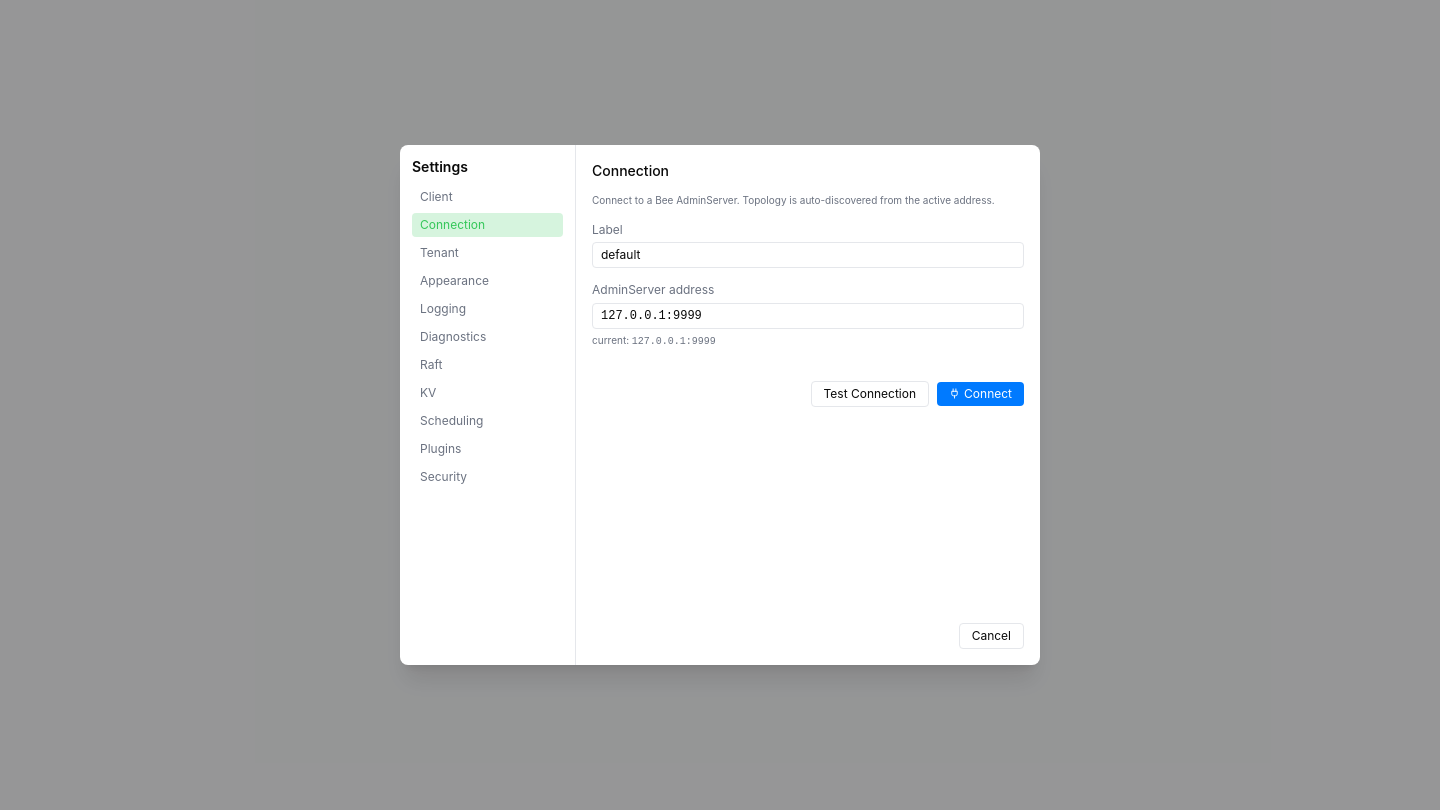
<SettingsModal> › rejects an out-of-range tenant and shows an error
Click the button "Tenant": click(488, 253) [412,241,563,265]
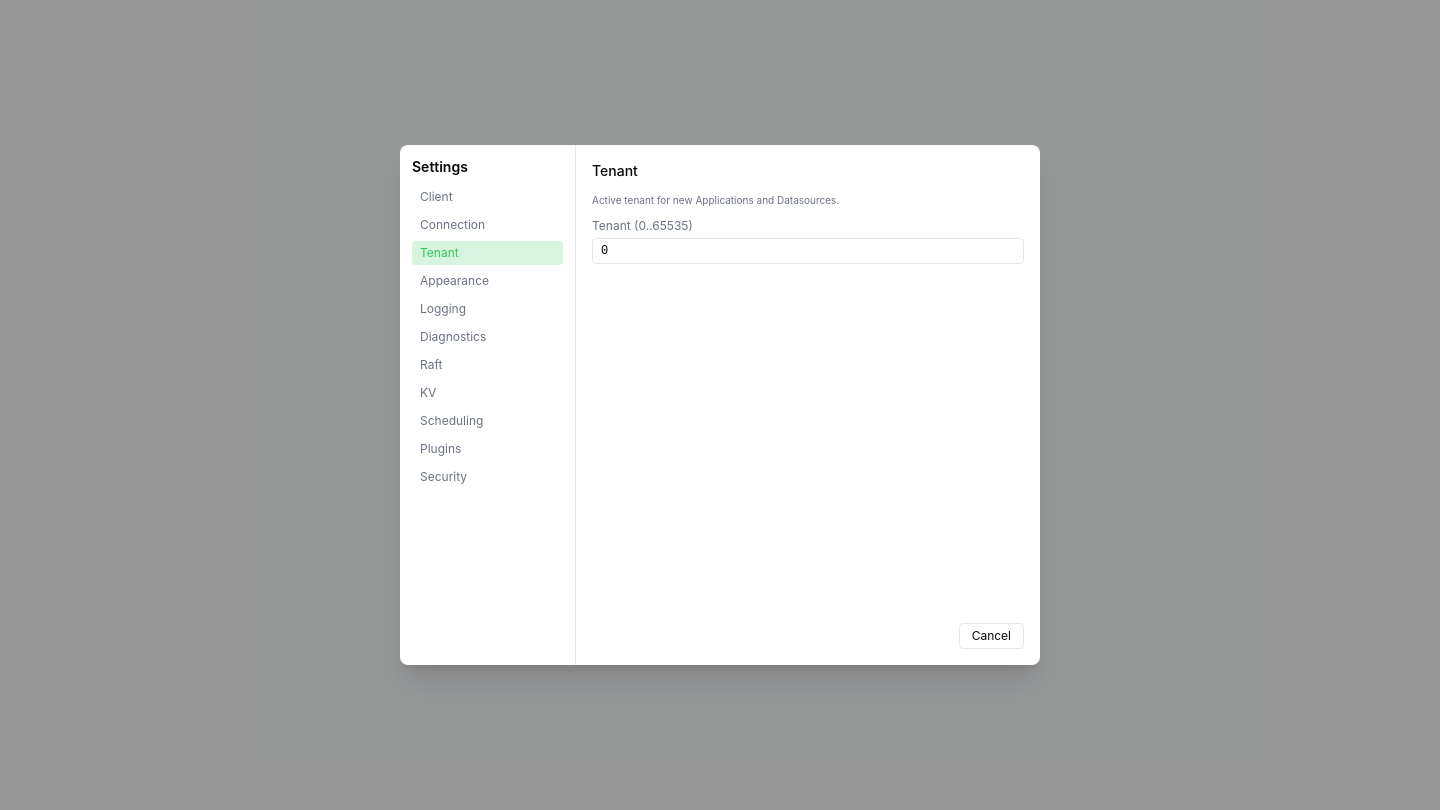
Replace the text in the field named "Active tenant" with "70000": (808, 251) [592,238,1024,264]
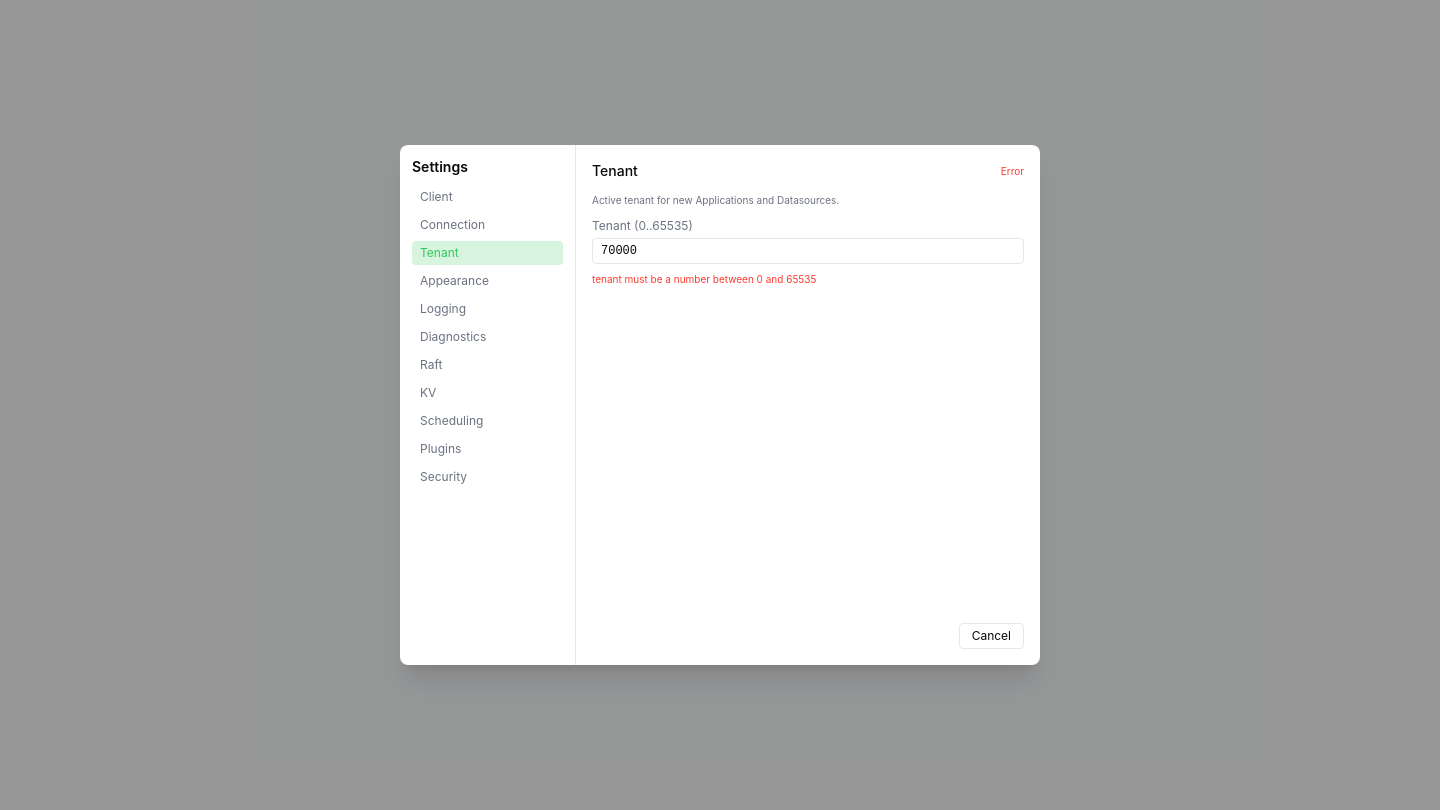
expect the text "tenant must be a number between 0 and 65535" is shown: met, box [592,273,816,285]
